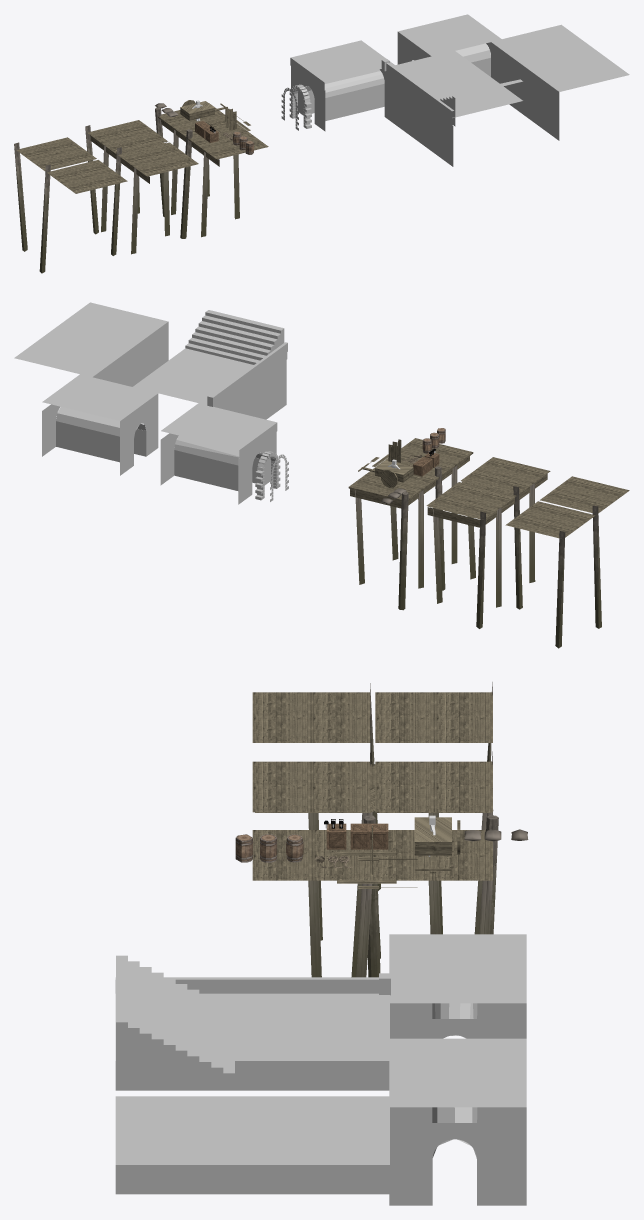
The model's file is DeckStones.fbx.
3 views of the same model, one above another, from view 1: azimuth 30°, elevation 25°; view 2: azimuth 150°, elevation 25°; view 3: azimuth 270°, elevation 25° (orthographic). The views are drawn at different scales.
Parts seen in each view (by area): view 1: Wall.LOD.001, Wall.LOD.000, HoleWall.LOD.000, Deck_LOD0.002, Deck_LOD0, Deck_LOD0.003, HoleWall.LOD.001, StepWall.LOD.000, Stairs, Arch.LOD.000; view 2: HoleWall.LOD.001, Wall.LOD.001, HoleWall.LOD.000, Deck_LOD0.002, Deck_LOD0, Wall.LOD.000, Deck_LOD0.003, Stairs, StepWall.LOD.000, Arch.LOD.000; view 3: Wall.LOD.001, HoleWall.LOD.001, Wall.LOD.000, HoleWall.LOD.000, Deck_LOD0.002, Deck_LOD0, Deck_LOD0.003, Stairs, StepWall.LOD.000, Box_Double, Cart.LOD.003, Cart.LOD.000.
Part boxes in pixels (left/top/right/bottom): Wall.LOD.001: left=491, top=24, right=629, bottom=140; Wall.LOD.000: left=384, top=50, right=522, bottom=166; HoleWall.LOD.000: left=290, top=40, right=394, bottom=131; Deck_LOD0.002: left=85, top=120, right=198, bottom=255; Deck_LOD0: left=155, top=103, right=268, bottom=238; Deck_LOD0.003: left=14, top=137, right=127, bottom=273; HoleWall.LOD.001: left=397, top=14, right=501, bottom=76; StepWall.LOD.000: left=386, top=62, right=454, bottom=118; Stairs: left=439, top=79, right=523, bottom=126; Arch.LOD.000: left=289, top=84, right=311, bottom=128; HoleWall.LOD.001: left=42, top=374, right=158, bottom=475; Wall.LOD.001: left=14, top=302, right=168, bottom=386; HoleWall.LOD.000: left=160, top=403, right=277, bottom=504; Deck_LOD0.002: left=426, top=457, right=550, bottom=628; Deck_LOD0: left=348, top=438, right=473, bottom=610; Wall.LOD.000: left=133, top=348, right=287, bottom=419; Deck_LOD0.003: left=505, top=476, right=629, bottom=648; Stairs: left=185, top=310, right=284, bottom=364; StepWall.LOD.000: left=214, top=342, right=287, bottom=403; Arch.LOD.000: left=255, top=451, right=280, bottom=500; Wall.LOD.001: left=115, top=1096, right=389, bottom=1194; HoleWall.LOD.001: left=389, top=1038, right=526, bottom=1205; Wall.LOD.000: left=115, top=993, right=389, bottom=1090; HoleWall.LOD.000: left=389, top=934, right=526, bottom=1038; Deck_LOD0.002: left=252, top=751, right=493, bottom=977; Deck_LOD0: left=252, top=815, right=498, bottom=977; Deck_LOD0.003: left=252, top=682, right=492, bottom=890; Stairs: left=116, top=955, right=234, bottom=1079; StepWall.LOD.000: left=115, top=977, right=378, bottom=993; Box_Double: left=350, top=823, right=388, bottom=849; Cart.LOD.003: left=414, top=817, right=451, bottom=841; Cart.LOD.000: left=414, top=842, right=451, bottom=873.
Bounding box in the file's own units: 20165 × 5044 × 6869.
